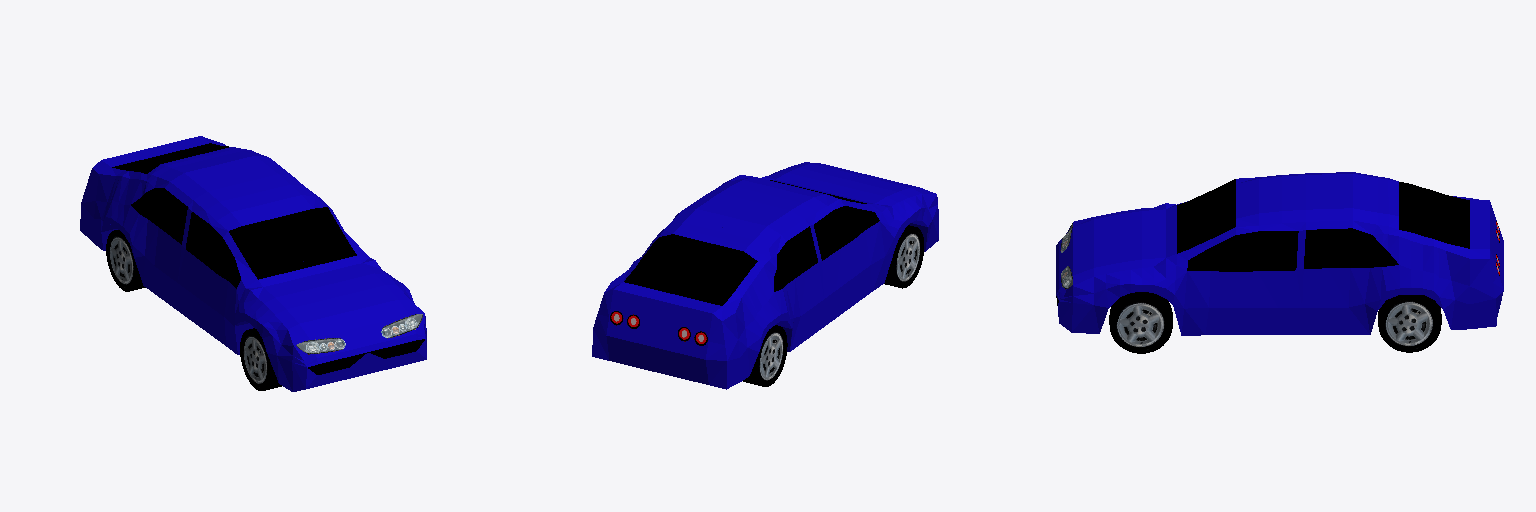
3 views of the same model, side by side, from view 1: azimuth 30°, elevation 25°; view 2: azimuth 150°, elevation 25°; view 3: azimuth 270°, elevation 25° (orthographic).
Visible parts, largest first — view 1: Cube_Cube.001_Materia, Cube.002_Cube.001, Cube_Cube.001_Mat, Cube.002_Cube.002_Cube.002_Cube.001, Cylinder.005_Cyli, Cylinder.004_Cyli, Cube_Cube.001_Mat.002, Cube.002_Cube.001_Mat; view 2: Cube_Cube.001_Materia, Cube.002_Cube.001, Cube_Cube.001_Mat, Cube.002_Cube.002_Cube.002_Cube.001, Cube_Cube.001_Mat.001, Cube.002_Cube_Cube.002_Cube.001, Cylinder.005_Cyli, Cylinder.004_Cyli; view 3: Cube.002_Cube.001, Cube.002_Cube.002_Cube.002_Cube.001, Cube_Cube.001_Materia, Cube_Cube.001_Mat, Cylinder.003_Cylinder, Cylinder_Cylinder.001.
Boxes of the visible parts, box(x1,y1,x2,y2) form: Cube_Cube.001_Materia: box(80, 148, 367, 391); Cube.002_Cube.001: box(152, 136, 426, 374); Cube_Cube.001_Mat: box(112, 155, 367, 374); Cube.002_Cube.002_Cube.002_Cube.001: box(164, 143, 424, 358); Cylinder.005_Cyli: box(240, 329, 271, 390); Cylinder.004_Cyli: box(106, 230, 137, 291); Cube_Cube.001_Mat.002: box(294, 332, 348, 360); Cube.002_Cube.001_Mat: box(377, 314, 424, 341); Cube_Cube.001_Materia: box(656, 176, 938, 389); Cube.002_Cube.001: box(592, 162, 870, 372); Cube_Cube.001_Mat: box(674, 190, 879, 305); Cube.002_Cube.002_Cube.002_Cube.001: box(624, 180, 817, 293); Cube_Cube.001_Mat.001: box(674, 306, 712, 359); Cube.002_Cube_Cube.002_Cube.001: box(606, 289, 644, 342); Cylinder.005_Cyli: box(893, 227, 923, 288); Cylinder.004_Cyli: box(756, 325, 787, 386); Cube.002_Cube.001: box(1056, 191, 1503, 335); Cube.002_Cube.002_Cube.002_Cube.001: box(1056, 199, 1469, 305); Cube_Cube.001_Materia: box(1056, 172, 1503, 268); Cube_Cube.001_Mat: box(1177, 179, 1469, 228); Cylinder.003_Cylinder: box(1110, 296, 1172, 353); Cylinder_Cylinder.001: box(1378, 295, 1441, 352).
Size of the model in its own units: 3.23 by 2.69 by 8.38.
Materials: 6 (5 with a texture image).